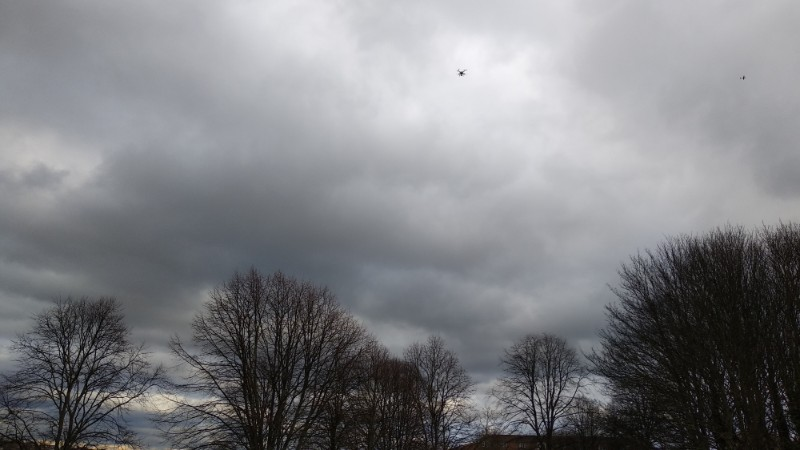drone: (457, 69, 467, 76)
